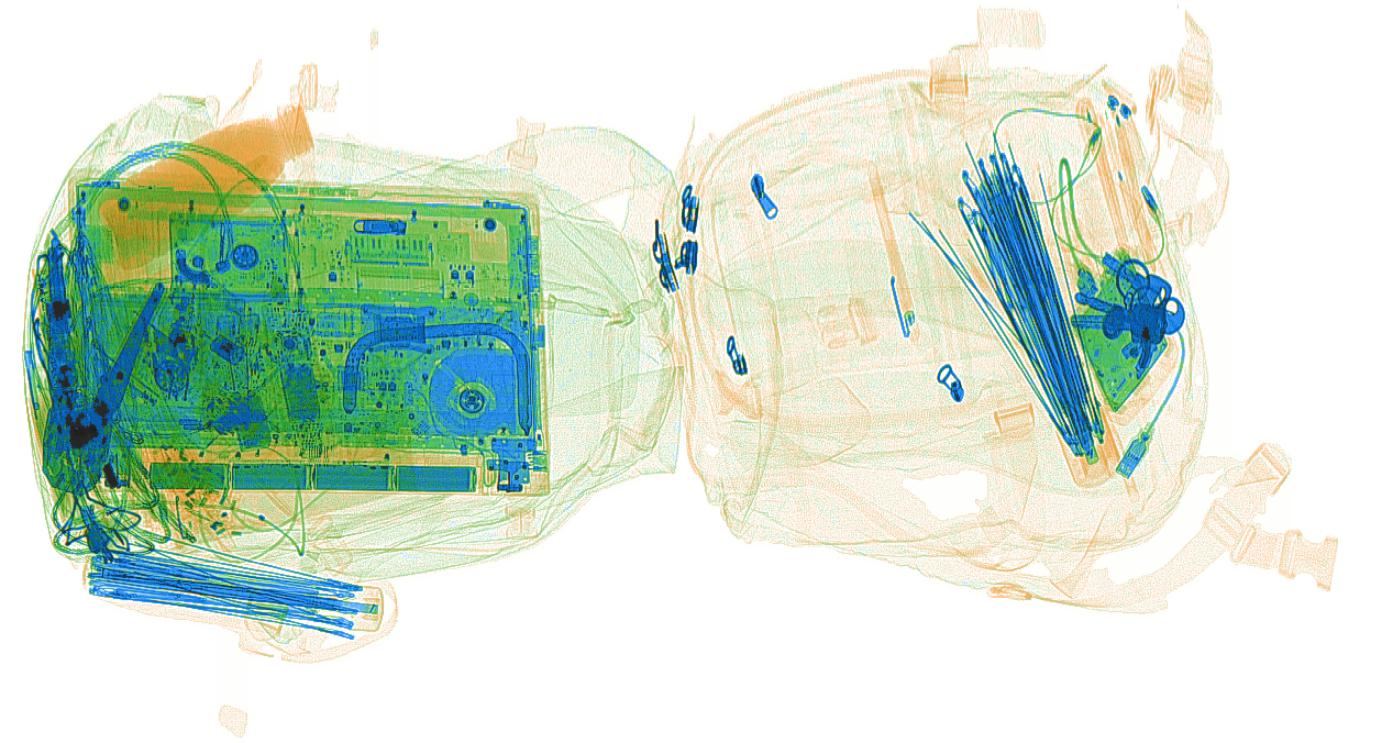battery: (225, 386, 272, 451), (277, 359, 323, 424)
